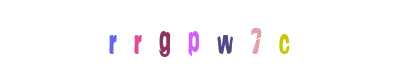7: (173, 0, 253, 80)
C: (243, 0, 323, 80)
G: (153, 0, 233, 80)
P: (153, 0, 233, 80)
R: (97, 0, 177, 80), (102, 0, 182, 80)
W: (167, 0, 247, 80)
